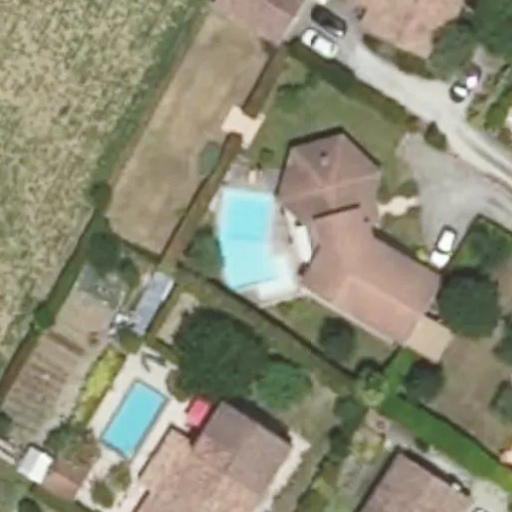pool: (207, 193, 293, 287)
